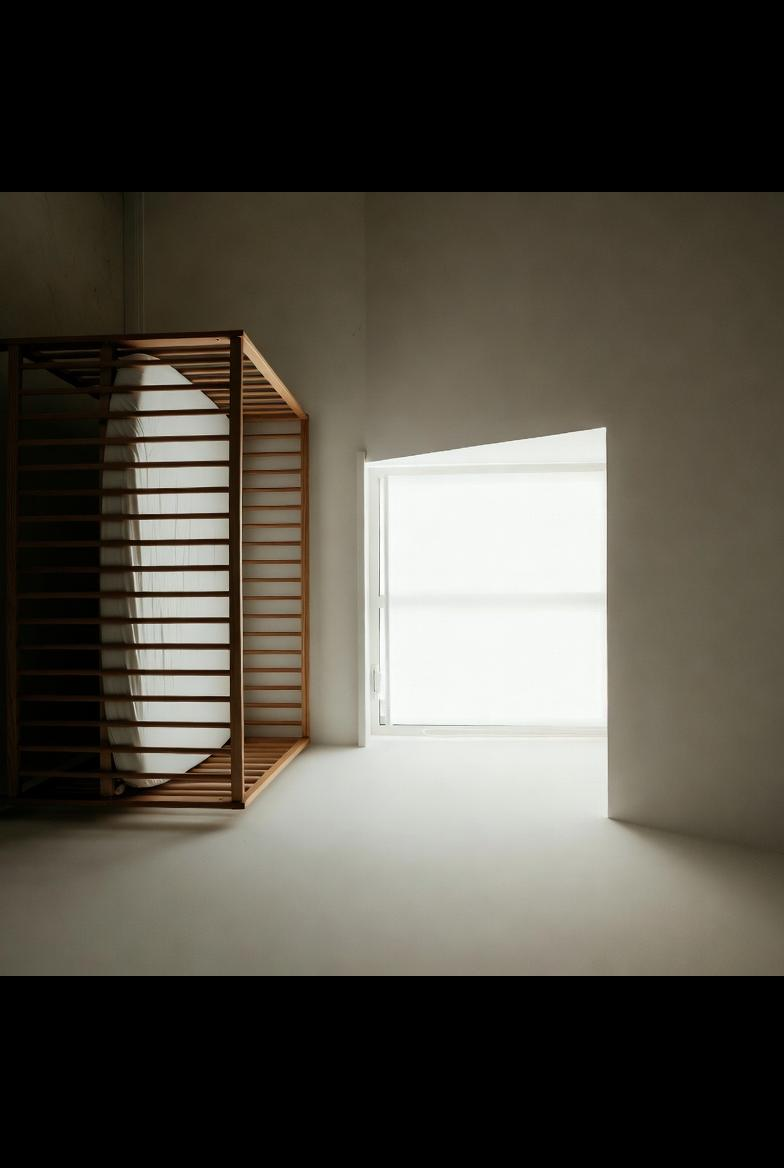crib: (0, 331, 308, 808)
